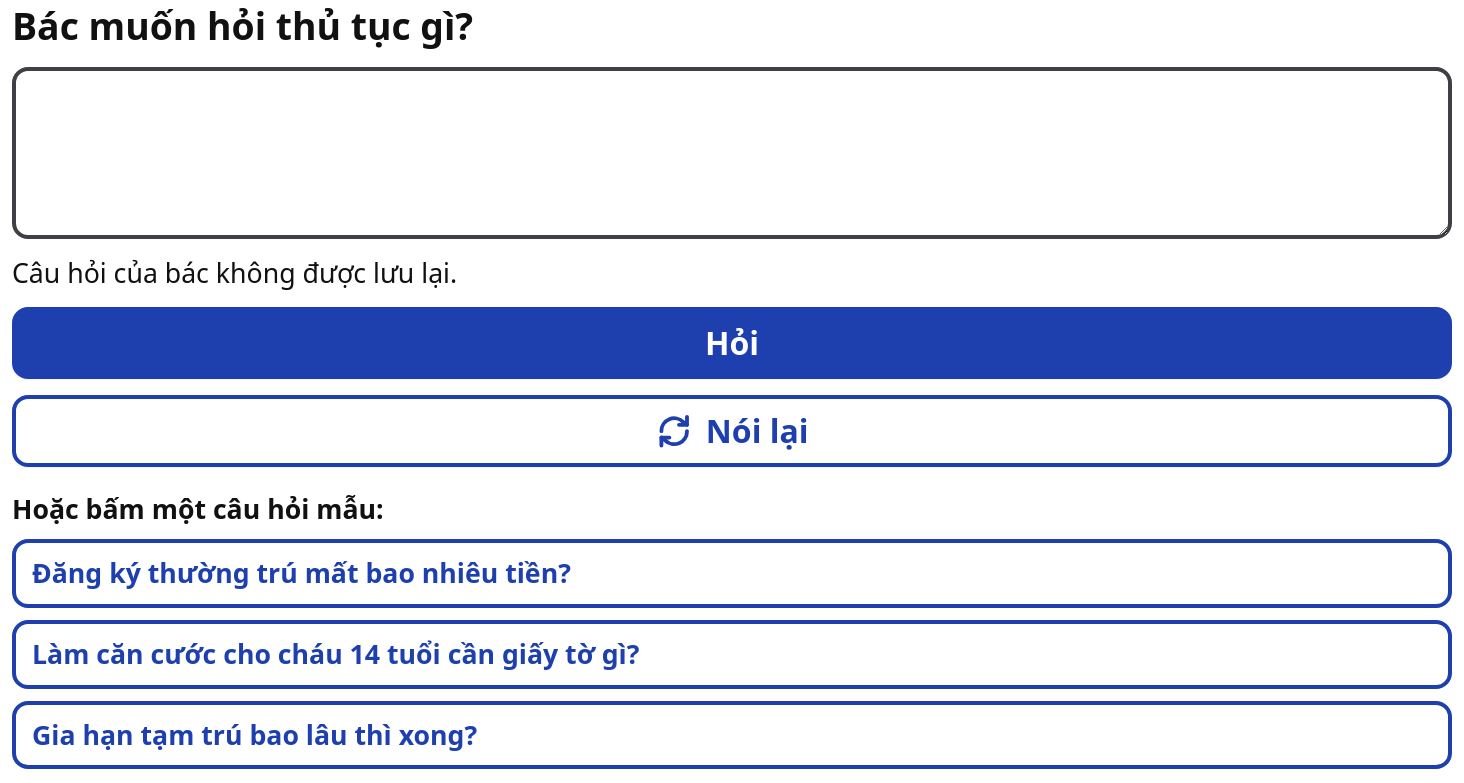
Test case: AskScreen — hỏi và trả lời › Nói lại xóa câu trả lời và đưa con trỏ về ô hỏi
Type "Làm thẻ cho cháu cần gì?" into the text box with test id "ask-input" at coordinates (732, 153), box x1=12 y1=67 x2=1452 y2=239
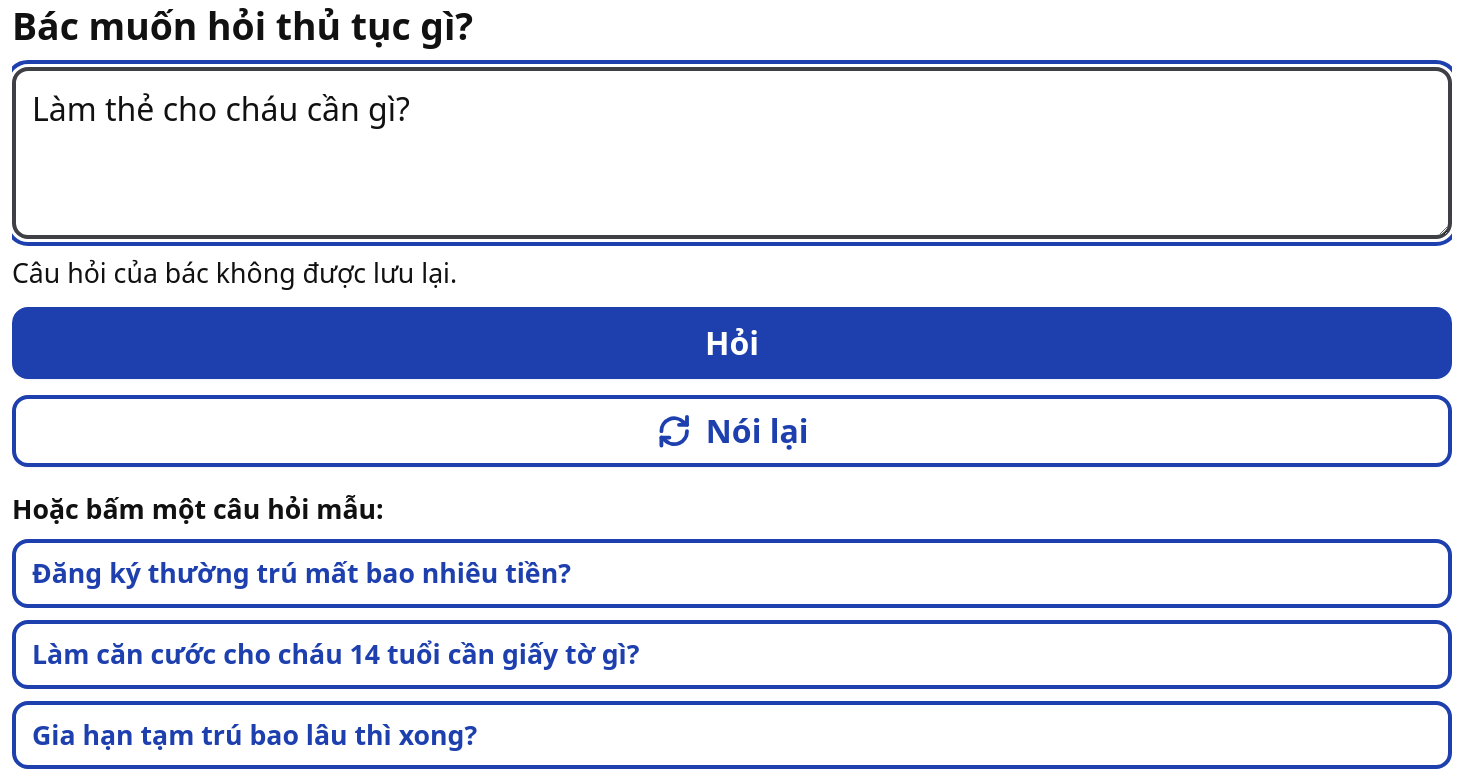
Click the button with test id "ask-submit" at coordinates (732, 343), box x1=12 y1=307 x2=1452 y2=379
(page scrolled)
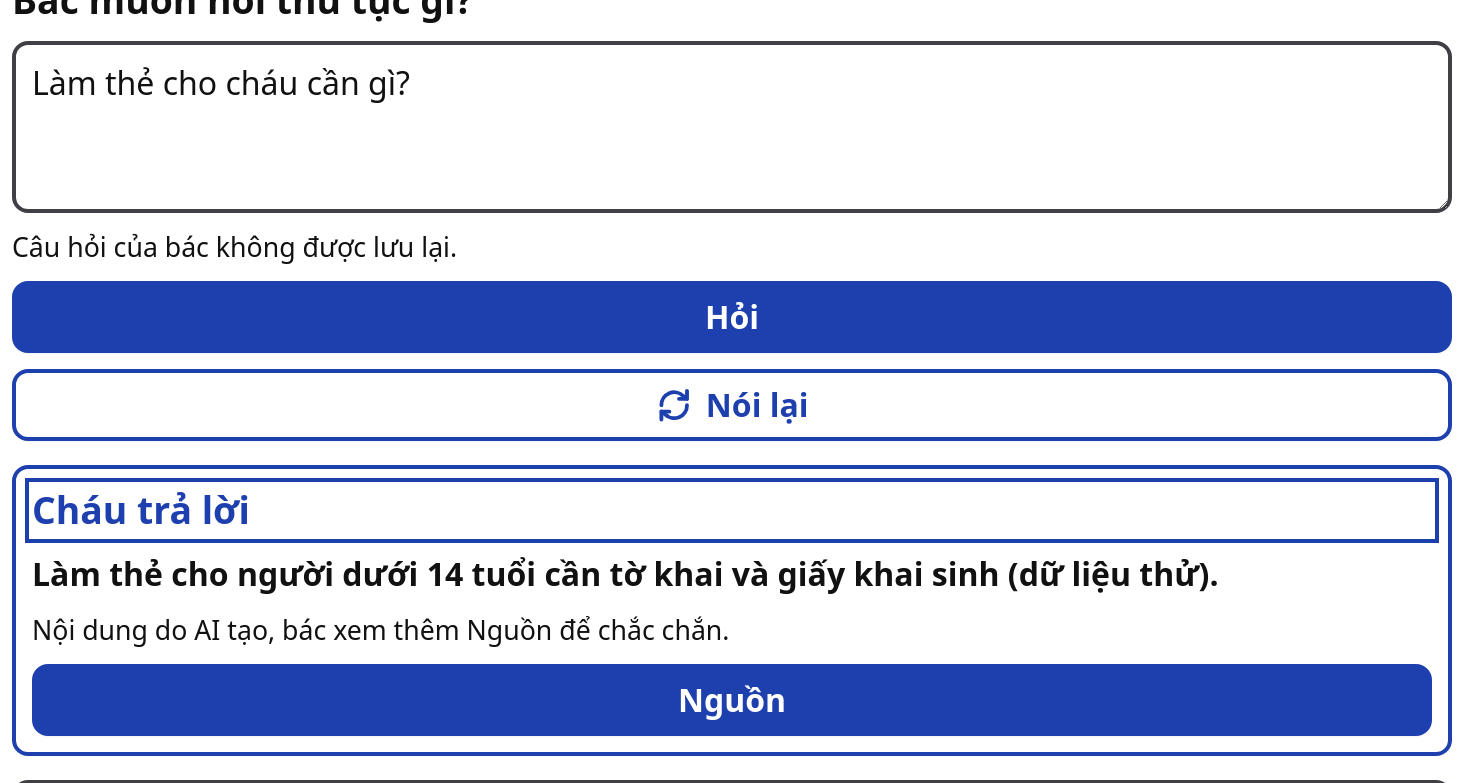
Click the button "Nói lại" at coordinates (732, 405), box x1=12 y1=369 x2=1452 y2=441
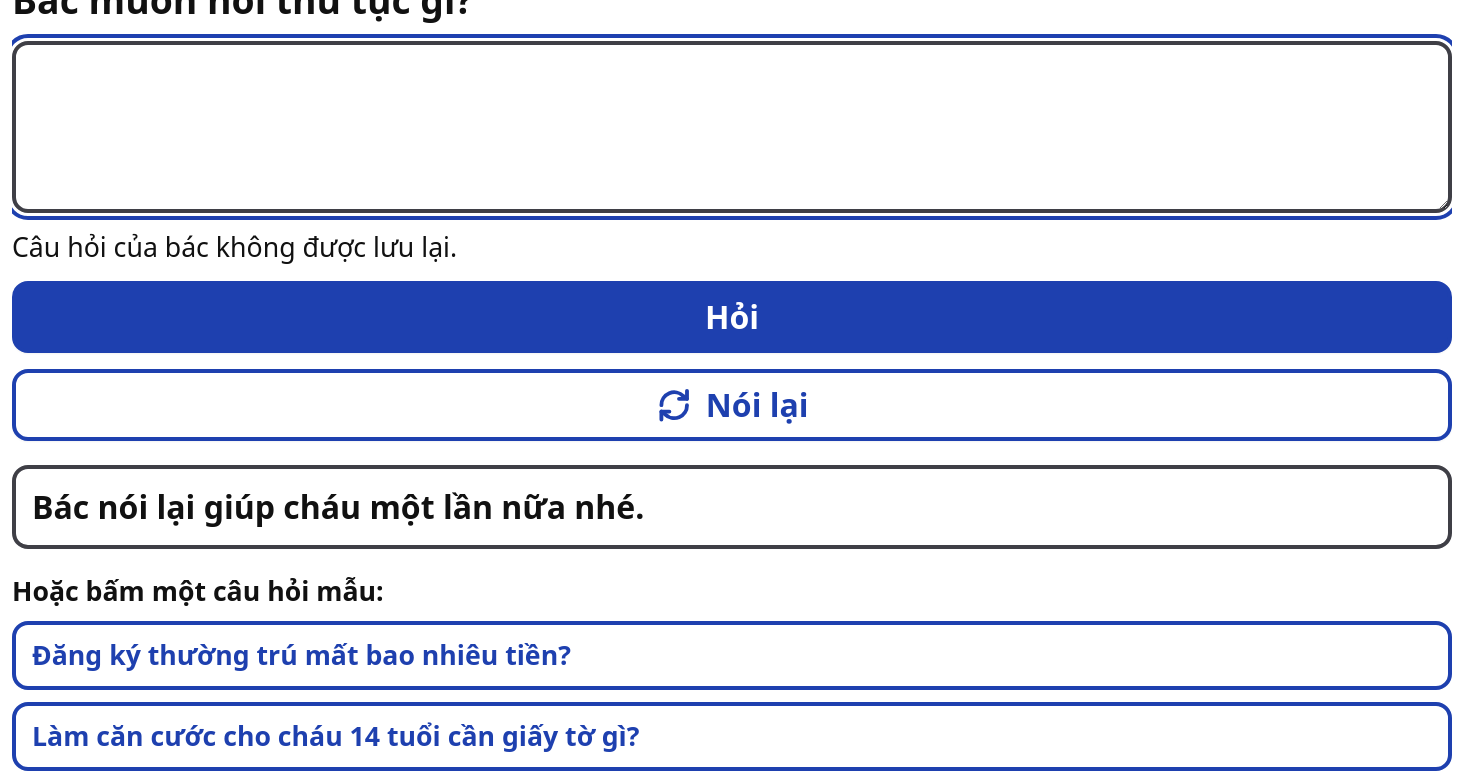
Expected: the text box with test id "ask-input" is empty, x1=12 y1=41 x2=1452 y2=213
Expected: the text "Bác nói lại giúp cháu một lần nữa nhé." is shown, x1=12 y1=465 x2=1452 y2=549
